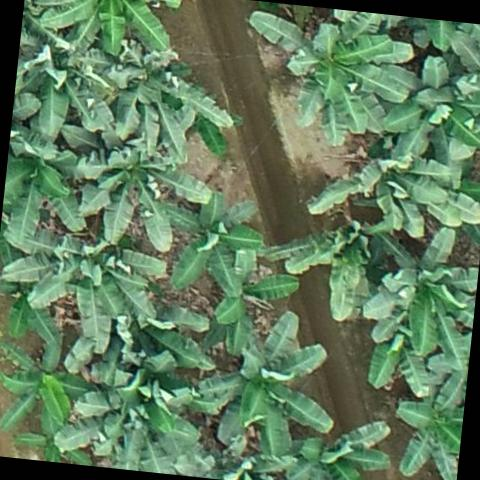Banana-plant: (357, 221, 480, 391), (194, 304, 327, 456), (243, 16, 406, 137), (0, 229, 151, 345), (254, 207, 396, 326), (316, 139, 477, 240), (65, 137, 207, 250), (63, 364, 203, 476), (104, 49, 234, 157), (375, 56, 480, 164), (11, 28, 102, 140), (382, 368, 467, 480), (0, 135, 88, 240), (166, 193, 258, 290), (0, 335, 82, 436), (36, 0, 173, 57), (281, 416, 384, 480)
